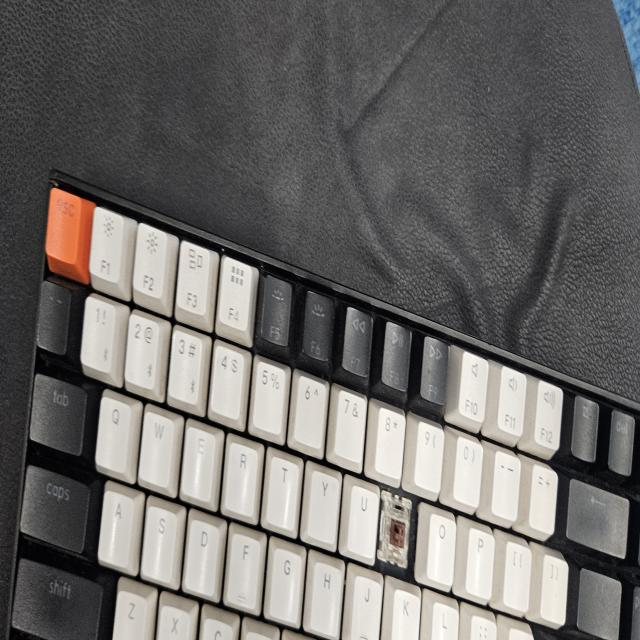C: (380, 496, 415, 568)
